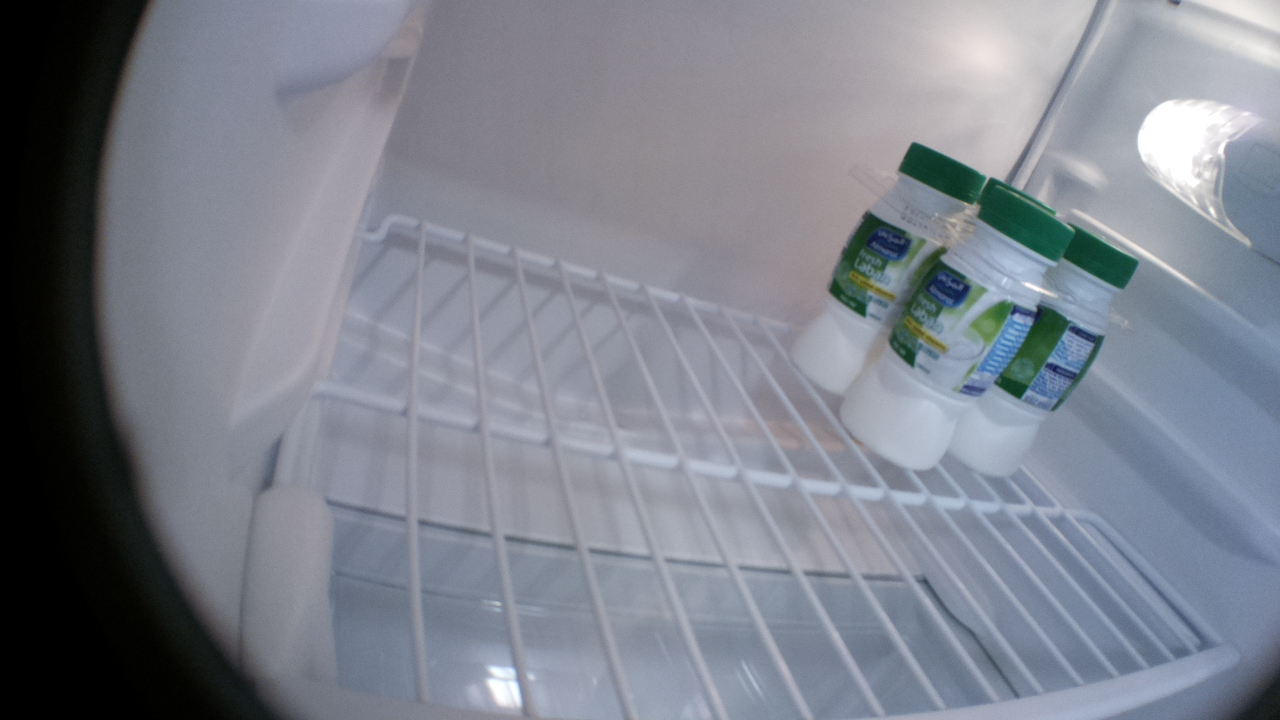laban: (831, 181, 1077, 474), (954, 221, 1160, 477), (787, 141, 987, 392)
